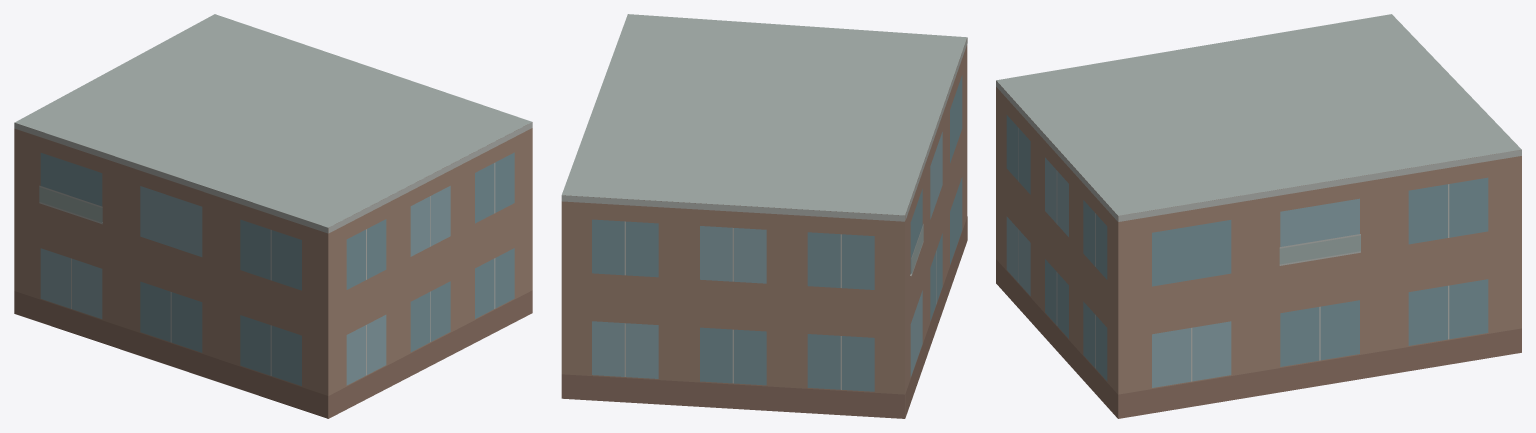
File: survey-upis-32966118.glb
The picture shows the model from 3 angles, left to right: view 1: azimuth 30°, elevation 25°; view 2: azimuth 150°, elevation 25°; view 3: azimuth 270°, elevation 25°; orthographic projection. The views are drawn at different scales.
Visible parts, largest first — view 1: survey-upis-32966118.tmp; view 2: survey-upis-32966118.tmp; view 3: survey-upis-32966118.tmp.
Part boxes in pixels (x1,y1,x2,y2): survey-upis-32966118.tmp: (14, 14, 532, 418); survey-upis-32966118.tmp: (561, 14, 967, 418); survey-upis-32966118.tmp: (996, 14, 1521, 418).
Size of the model in its own units: 16.96 by 7.95 by 18.67.
